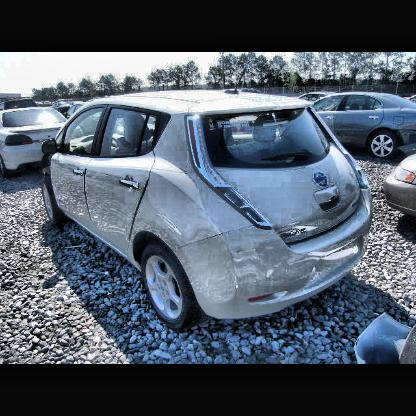Nissan Leaf Hatchback 2012: (42, 90, 375, 335)
